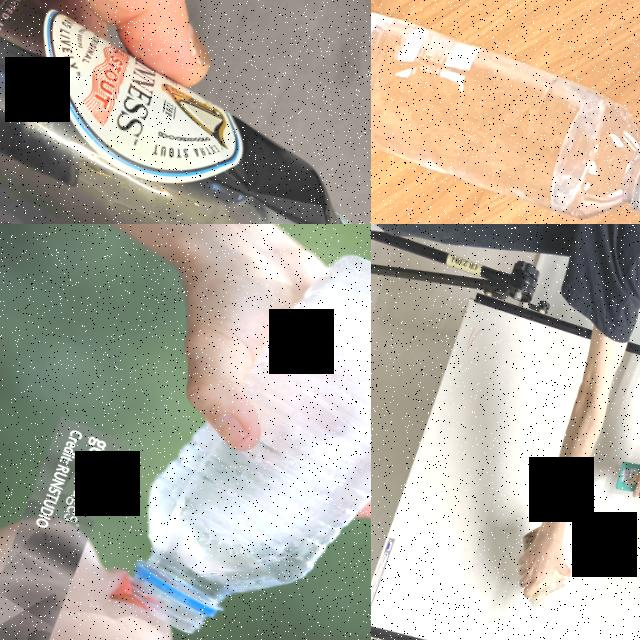bottle: (102, 224, 371, 640), (371, 0, 640, 224)
can: (0, 0, 371, 224)
cup: (498, 520, 582, 618)
